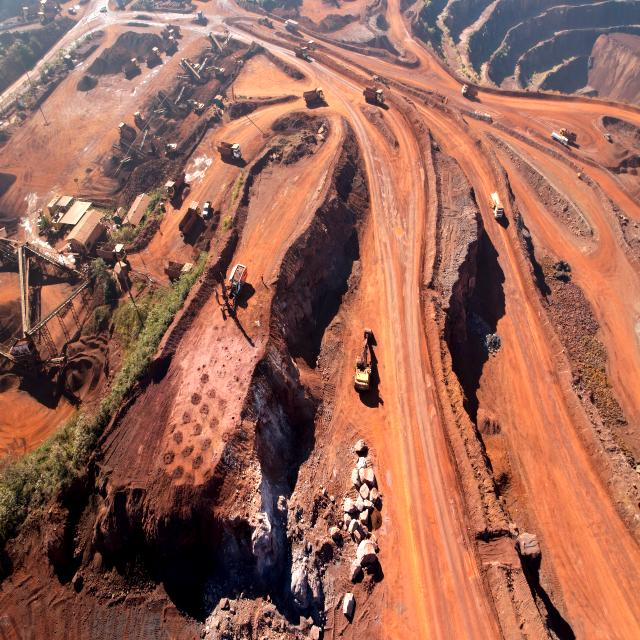Blast rig: (215, 255, 248, 312)
Dumper truck: (166, 168, 186, 200), (488, 188, 505, 223), (218, 138, 242, 162), (181, 201, 199, 233), (303, 85, 325, 107), (98, 245, 126, 262), (362, 84, 384, 104), (121, 56, 140, 74), (160, 23, 180, 39), (143, 46, 161, 62), (293, 45, 310, 60), (298, 40, 315, 55), (118, 125, 135, 140), (560, 126, 578, 140), (162, 36, 175, 54), (284, 20, 299, 34), (23, 6, 39, 18), (38, 11, 55, 22), (38, 1, 58, 10), (462, 87, 478, 98)
Excavator: (354, 326, 375, 393), (150, 135, 176, 157), (184, 98, 205, 116)
car: (203, 200, 212, 221)
person: (260, 272, 264, 285)
